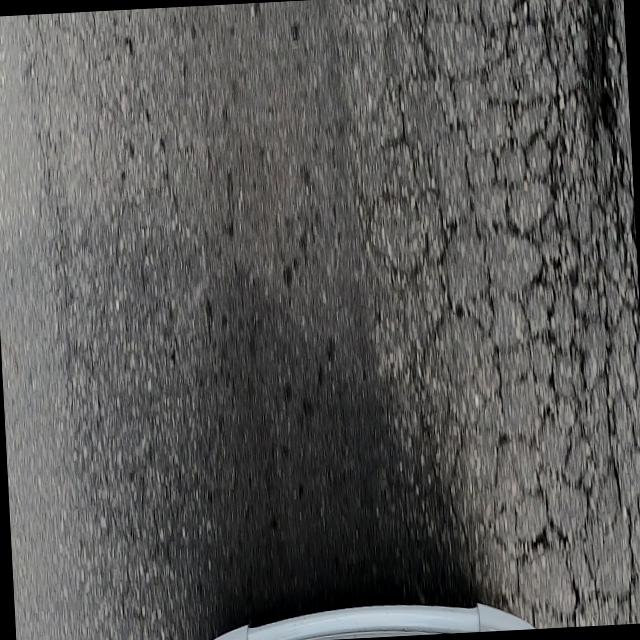Retak-Buaya: (368, 0, 640, 627)
